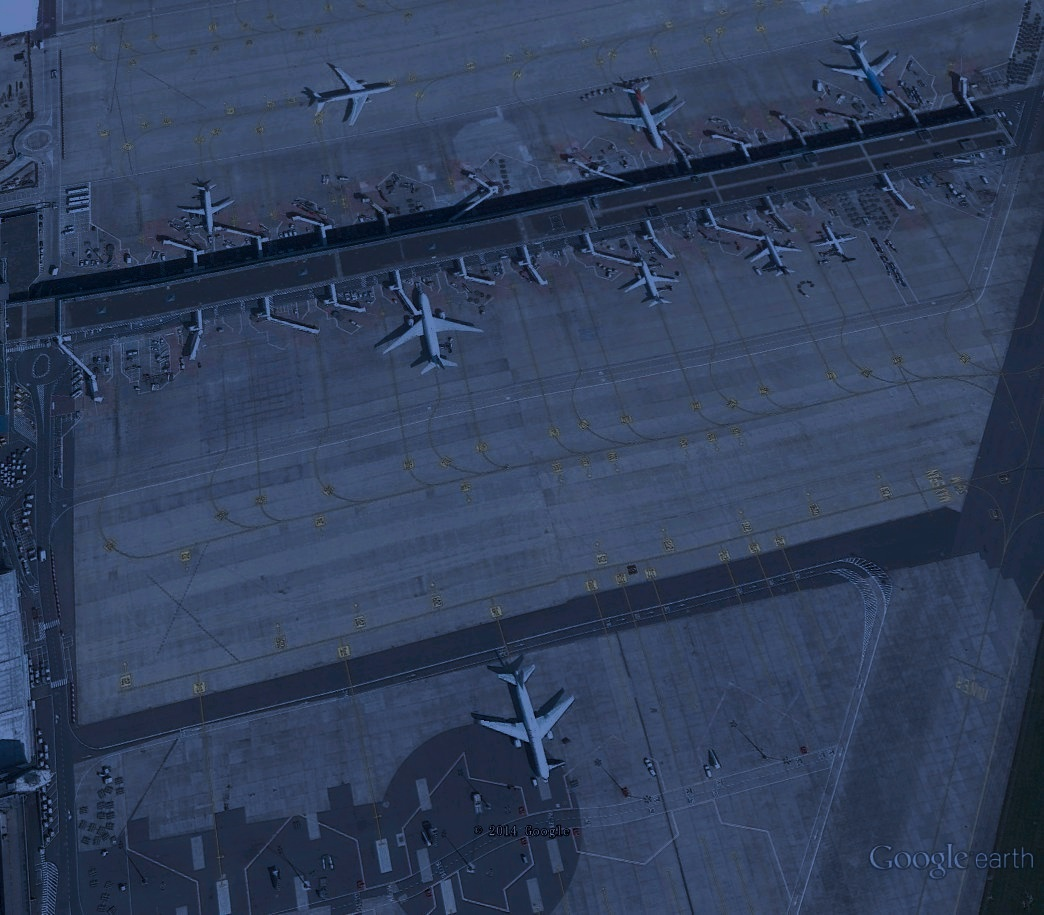aircraft: (468, 661, 582, 790), (373, 286, 489, 379), (589, 81, 691, 156), (816, 36, 906, 111), (306, 58, 399, 130), (175, 178, 238, 243), (618, 256, 685, 315), (742, 231, 805, 280), (808, 217, 861, 264)
